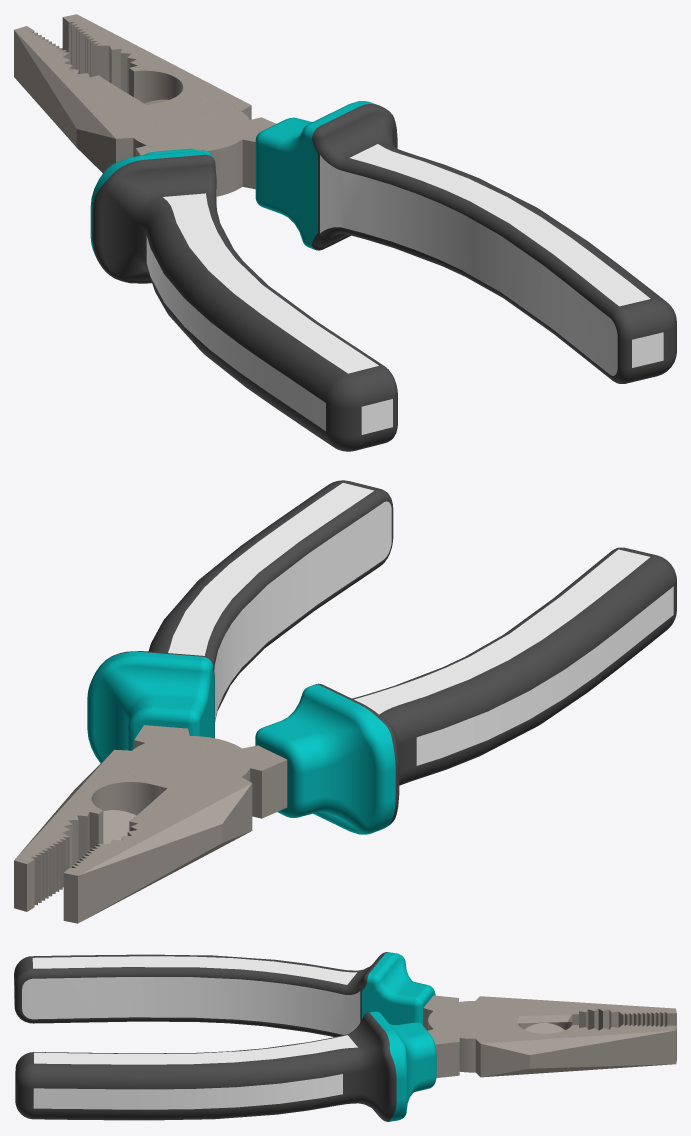
3 views of the same model, one above another, from view 1: azimuth 30°, elevation 25°; view 2: azimuth 150°, elevation 25°; view 3: azimuth 270°, elevation 25° (orthographic). The views are drawn at different scales.
Visible parts, largest first — view 1: Right_Handle-4.002, Left_Handle-3.002, Left_Handle-2.002, Right_Handle-2.002, Left_Handle-5.002, Right_Handle-1.002, Left_Handle-4.002, Left_Handle-6.002, Right_Handle-3.002, Left_Handle-1.002; view 2: Right_Handle-4.002, Left_Handle-3.002, Left_Handle-2.002, Right_Handle-2.002, Right_Handle-3.002, Right_Handle-1.002, Left_Handle-4.002, Left_Handle-5.002, Left_Handle-6.002, Left_Handle-1.002, Right_Handle.002; view 3: Right_Handle-2.002, Left_Handle-6.002, Left_Handle-3.002, Right_Handle-1.002, Right_Handle-4.002, Left_Handle-2.002, Right_Handle-3.002, Left_Handle-4.002, Left_Handle-5.002, Left_Handle-1.002, Left_Handle.002.
Part boxes in pixels (<box>): Right_Handle-4.002: <box>92,154,397,451</box>; Left_Handle-3.002: <box>320,144,663,375</box>; Left_Handle-2.002: <box>14,26,276,189</box>; Right_Handle-2.002: <box>146,189,392,434</box>; Left_Handle-5.002: <box>312,104,631,383</box>; Right_Handle-1.002: <box>62,14,251,196</box>; Left_Handle-4.002: <box>255,101,376,249</box>; Left_Handle-6.002: <box>376,114,676,383</box>; Right_Handle-3.002: <box>90,148,213,254</box>; Left_Handle-1.002: <box>92,79,146,106</box>; Right_Handle-4.002: <box>316,547,676,825</box>; Left_Handle-3.002: <box>168,483,391,720</box>; Left_Handle-2.002: <box>63,725,252,923</box>; Right_Handle-2.002: <box>354,549,673,765</box>; Right_Handle-3.002: <box>255,684,395,834</box>; Right_Handle-1.002: <box>14,745,287,911</box>; Left_Handle-4.002: <box>87,651,214,763</box>; Left_Handle-5.002: <box>105,489,393,737</box>; Left_Handle-6.002: <box>148,480,379,652</box>; Left_Handle-1.002: <box>134,788,183,818</box>; Right_Handle.002: <box>103,810,136,843</box>; Right_Handle-2.002: <box>14,956,360,1034</box>; Left_Handle-6.002: <box>15,1047,384,1120</box>; Left_Handle-3.002: <box>33,1035,357,1109</box>; Right_Handle-1.002: <box>423,995,676,1077</box>; Right_Handle-4.002: <box>14,952,387,1036</box>; Left_Handle-2.002: <box>428,996,676,1077</box>; Right_Handle-3.002: <box>362,952,435,1025</box>; Left_Handle-4.002: <box>369,1011,436,1121</box>; Left_Handle-5.002: <box>17,1012,396,1121</box>; Left_Handle-1.002: <box>517,1005,572,1023</box>; Left_Handle.002: <box>525,1023,564,1033</box>.
Size of the model in its own units: 0.4335 by 0.143 by 0.9788.
